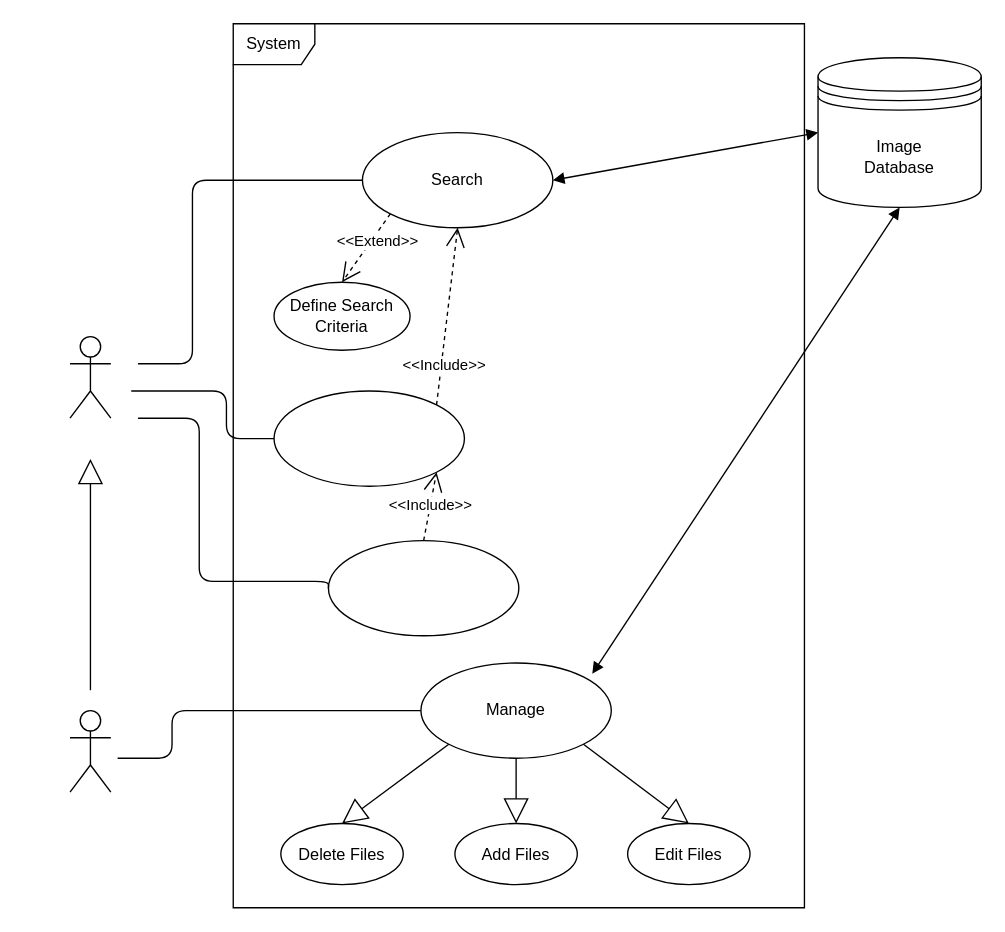
Image size: 1005x932. Some labels were removed from this diagram. The shapes that lost their labels are listed below. From the top down, each one's box as (x1, y1, x2, y2) in pixels, then its label:
(69, 335, 111, 418): User
(273, 390, 464, 486): View Results
(327, 539, 519, 636): Download
(69, 709, 111, 792): System Administer
